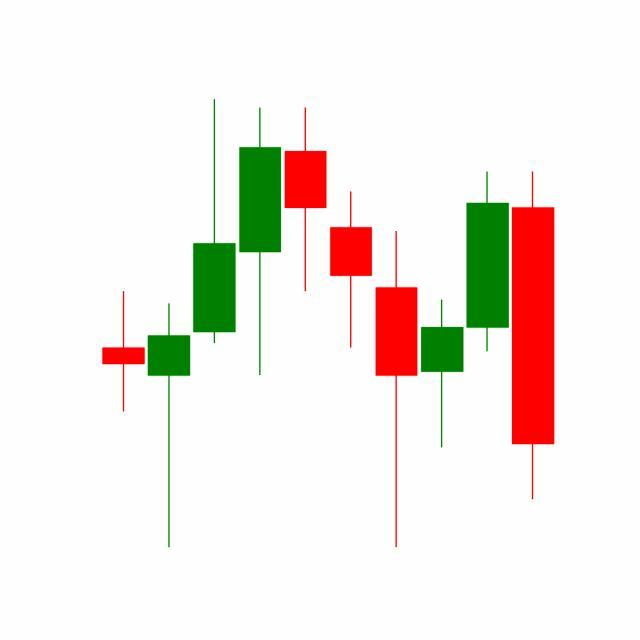Hikkake Pattern: (283, 103, 512, 549)
